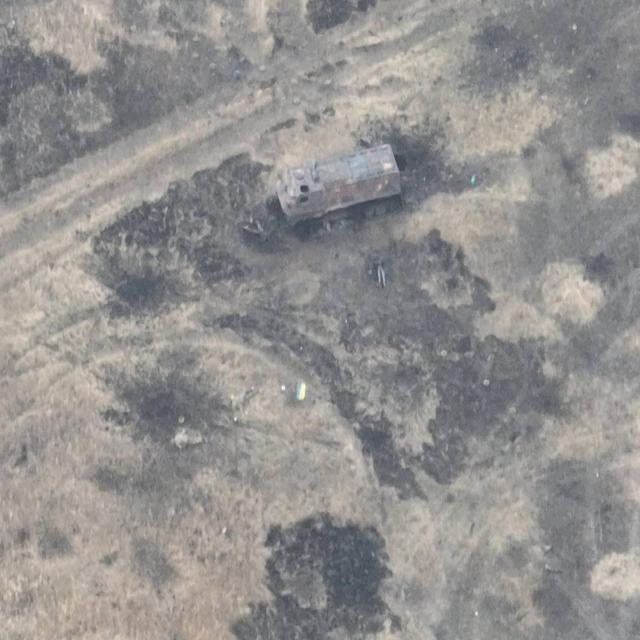apc: (276, 144, 402, 237)
